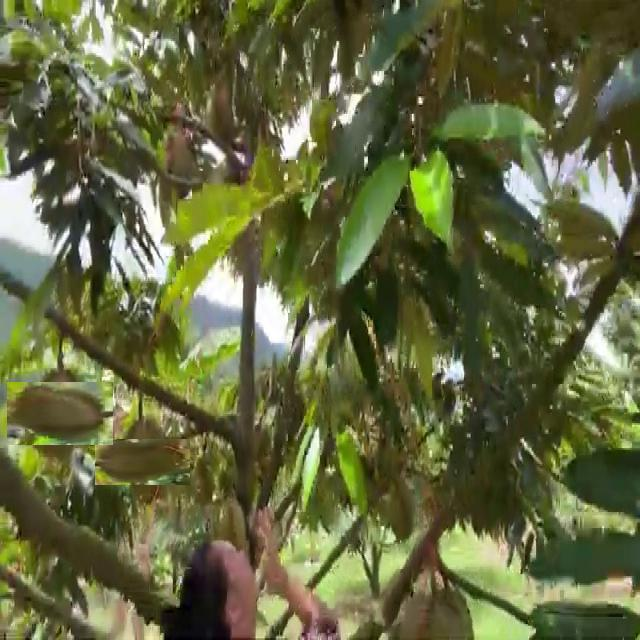durian: (18, 370, 102, 456), (108, 426, 178, 498)
